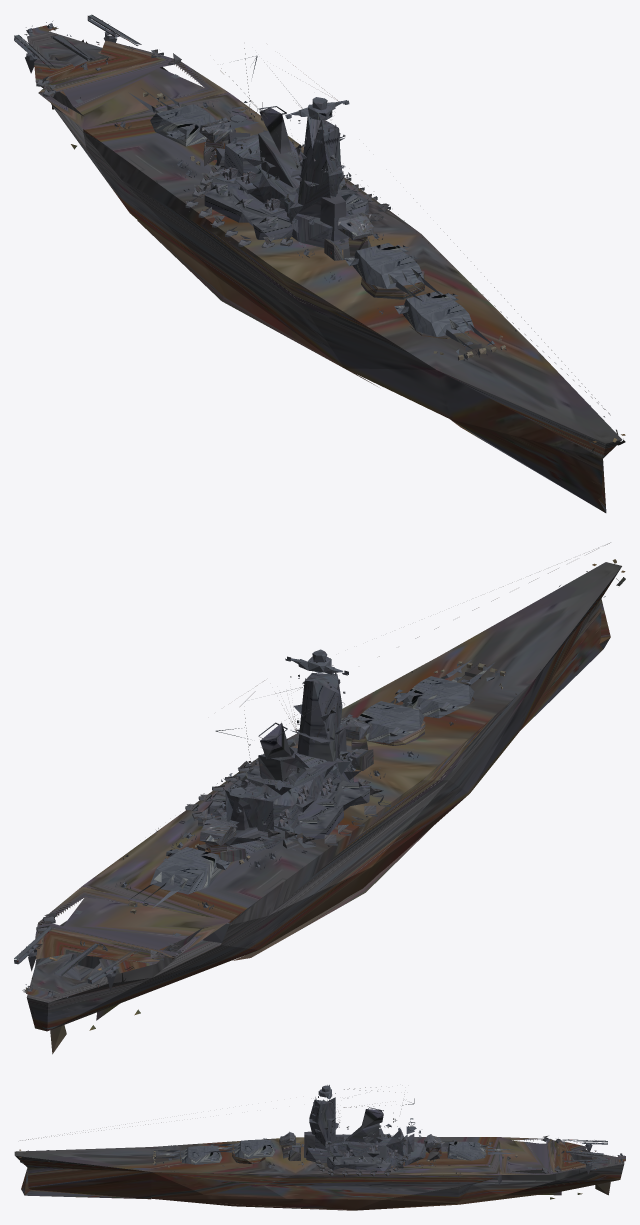
3 renders of one model, top to bottom at view 1: azimuth 30°, elevation 25°; view 2: azimuth 150°, elevation 25°; view 3: azimuth 270°, elevation 25°, orthographic. The views are drawn at different scales.
Parts seen in each view (by area): view 1: Object_70, Object_20, Object_49, Object_38, Object_22, Object_29, Object_5; view 2: Object_70, Object_20, Object_49, Object_38, Object_22, Object_29; view 3: Object_70, Object_20, Object_49, Object_38, Object_22, Object_29, Object_53.
Boxes of the visible parts, left/top/right/bottom form: Object_70: left=24, top=25, right=622, bottom=512; Object_20: left=204, top=55, right=369, bottom=247; Object_49: left=129, top=87, right=495, bottom=349; Object_38: left=36, top=49, right=390, bottom=247; Object_22: left=199, top=120, right=374, bottom=239; Object_29: left=14, top=14, right=179, bottom=103; Object_5: left=285, top=97, right=349, bottom=120; Object_70: left=22, top=542, right=621, bottom=1054; Object_20: left=206, top=673, right=369, bottom=853; Object_49: left=128, top=659, right=495, bottom=908; Object_38: left=36, top=761, right=390, bottom=960; Object_22: left=199, top=717, right=374, bottom=845; Object_29: left=14, top=910, right=181, bottom=984; Object_70: left=14, top=1086, right=625, bottom=1210; Object_20: left=304, top=1097, right=425, bottom=1171; Object_49: left=153, top=1138, right=514, bottom=1164; Object_38: left=315, top=1134, right=561, bottom=1175; Object_22: left=279, top=1131, right=444, bottom=1147; Object_29: left=526, top=1139, right=607, bottom=1168; Object_53: left=343, top=1135, right=397, bottom=1157.
Bounding box in the file's own units: 1.03 × 1.36 × 6.68.
Materials: 45 (45 with a texture image).
